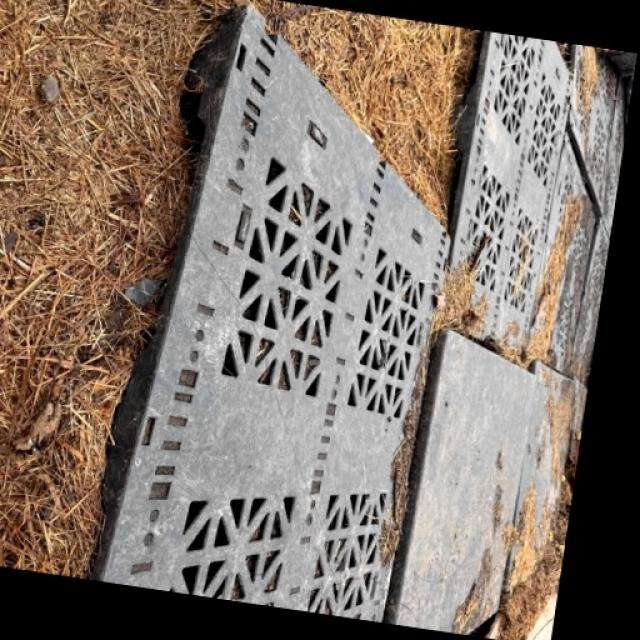non-igps: (78, 0, 456, 640), (377, 324, 549, 637), (415, 28, 578, 355), (501, 129, 599, 380)
